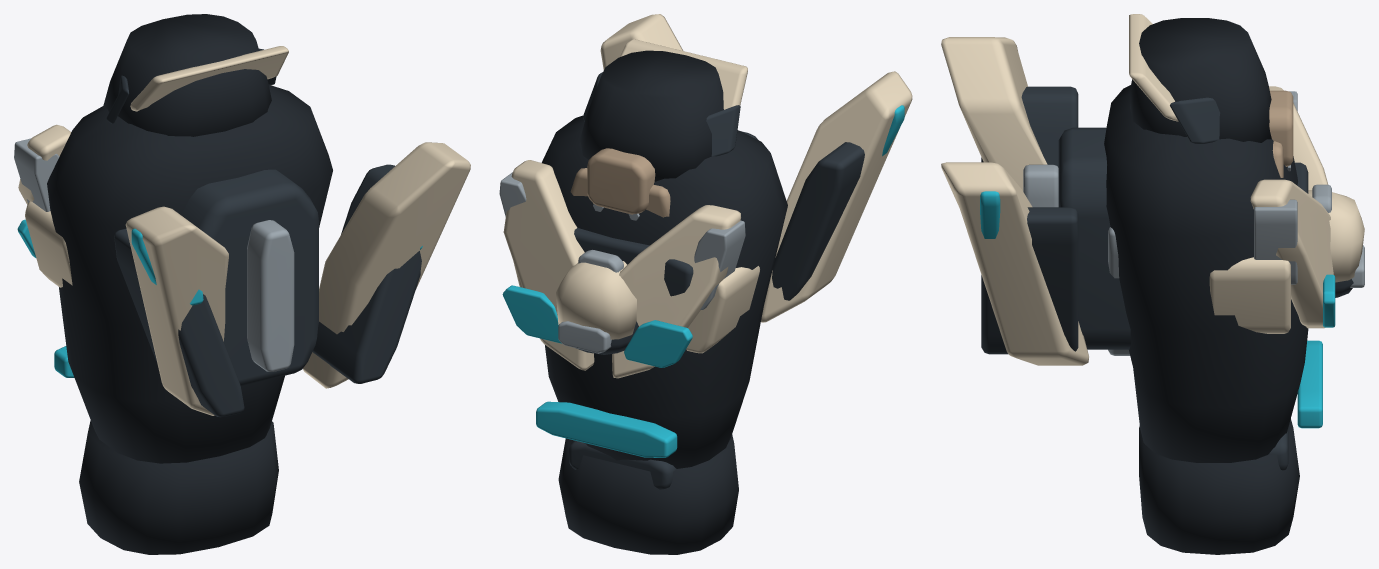
File: KestrelSuit.fbx
The picture shows the model from 3 angles, left to right: view 1: azimuth 30°, elevation 25°; view 2: azimuth 150°, elevation 25°; view 3: azimuth 270°, elevation 25°; orthographic projection. The views are drawn at different scales.
Visible parts, largest first — view 1: Torso_Mount, Pelvis_Mount; view 2: Torso_Mount, LeftBoot_Mount, Pelvis_Mount, LeftShin_Mount, RightThigh_Mount; view 3: Torso_Mount, Pelvis_Mount, LeftBoot_Mount, LeftShin_Mount.
Part boxes in pixels (x1,y1,x2,y2): Torso_Mount: (14,14,470,554); Pelvis_Mount: (25,201,72,287); Torso_Mount: (499,14,912,554); LeftBoot_Mount: (556,261,638,354); Pelvis_Mount: (513,228,759,353); LeftShin_Mount: (587,148,655,214); RightThigh_Mount: (628,185,670,220); Torso_Mount: (941,14,1335,554); Pelvis_Mount: (1209,162,1331,333); LeftBoot_Mount: (1308,190,1364,297); LeftShin_Mount: (1108,90,1293,355).
Bounding box in the file's own units: 0.4442 × 0.637 × 0.5161.
